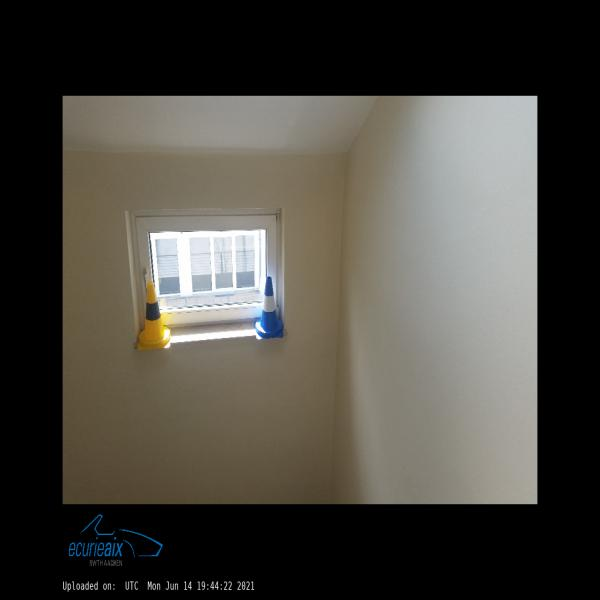blue_cone: (254, 276, 284, 340)
yellow_cone: (137, 282, 171, 351)
